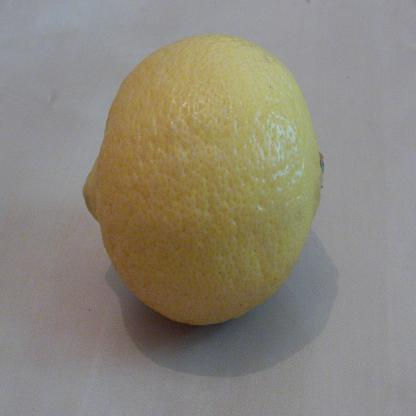lemon: (82, 32, 324, 328)
